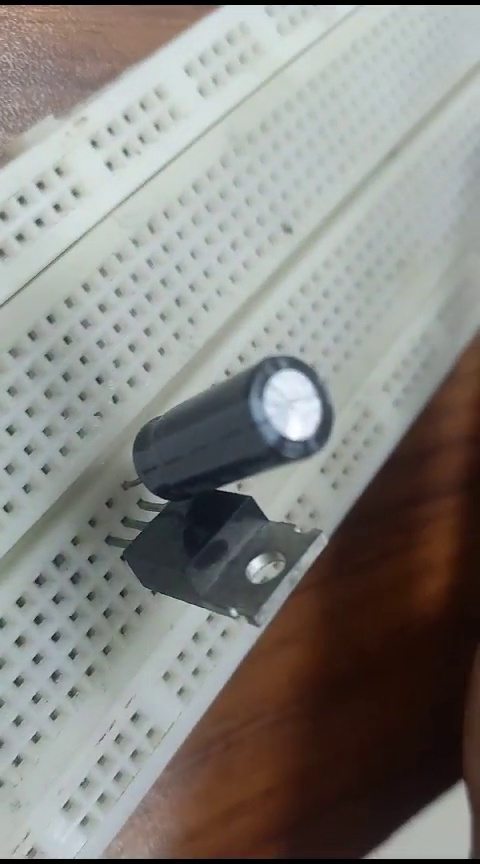capacitor: (134, 332, 334, 484)
voltage regulator: (118, 485, 332, 629)
